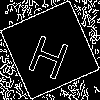H: (25, 25, 75, 81)
